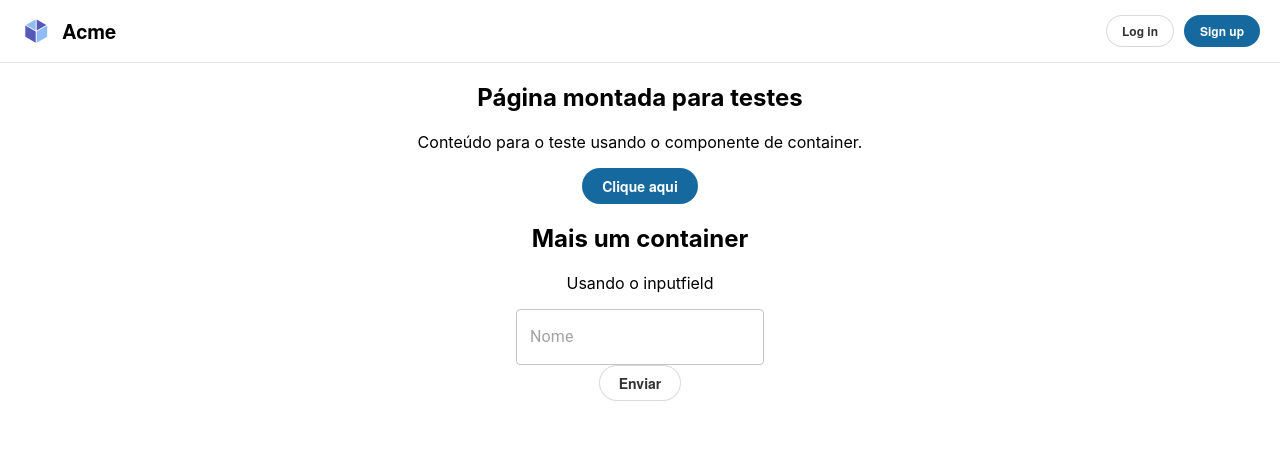
it: Teste do useEffect › contador atualiza com cliques
Click the button "Enviar" at (640, 383), box [599, 365, 681, 401]
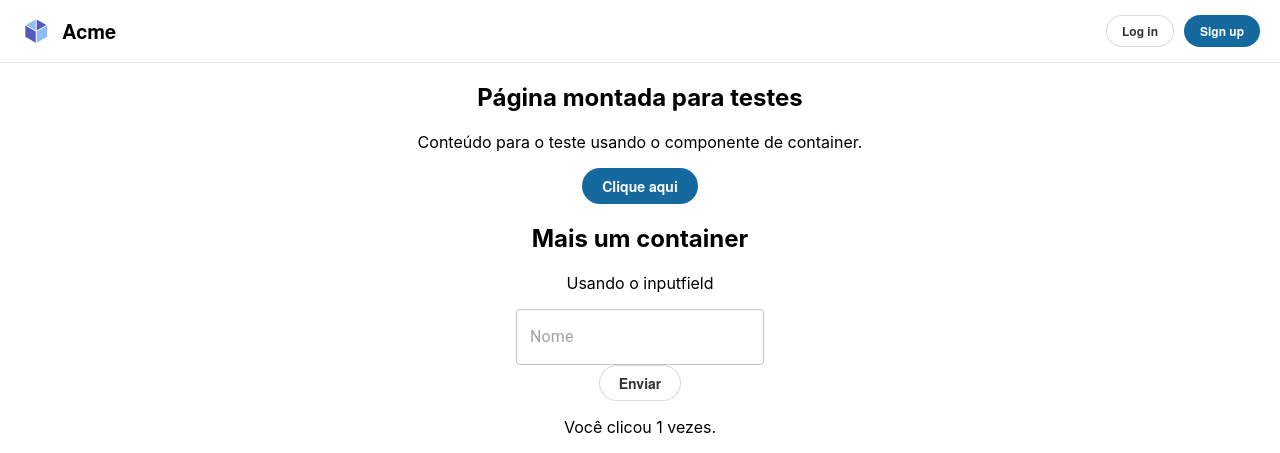
expect the text "Você clicou 1 vezes." is shown: met, box [564, 417, 716, 437]
